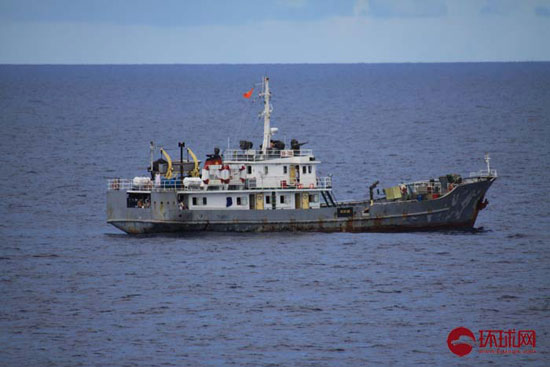otherboat: (103, 86, 500, 241)
